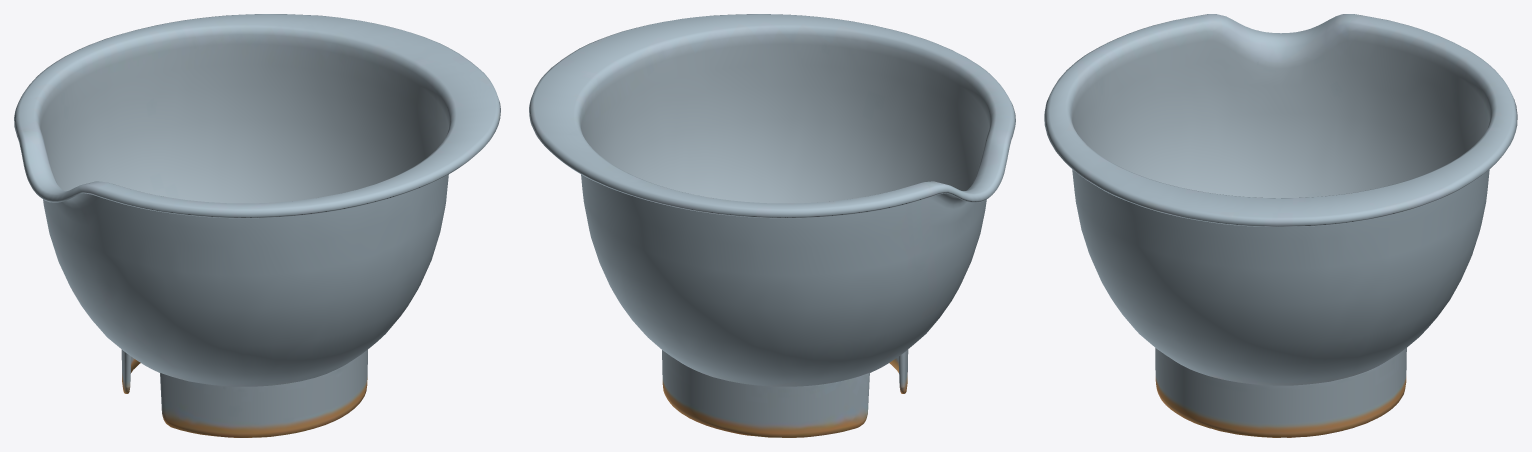
The model's file is ikea_knock_box.glb.
3 views of the same model, side by side, from view 1: azimuth 30°, elevation 25°; view 2: azimuth 150°, elevation 25°; view 3: azimuth 270°, elevation 25° (orthographic). The views are drawn at different scales.
Visible parts, largest first — view 1: ASY_ART_90598491_S01_NV01; view 2: ASY_ART_90598491_S01_NV01; view 3: ASY_ART_90598491_S01_NV01.
Boxes of the visible parts, left/top/right/bottom form: ASY_ART_90598491_S01_NV01: left=14, top=14, right=500, bottom=437; ASY_ART_90598491_S01_NV01: left=529, top=14, right=1015, bottom=437; ASY_ART_90598491_S01_NV01: left=1044, top=14, right=1517, bottom=437.
Size of the model in its own units: 0.1793 by 0.1085 by 0.1667.
1 material, 1 textured.
